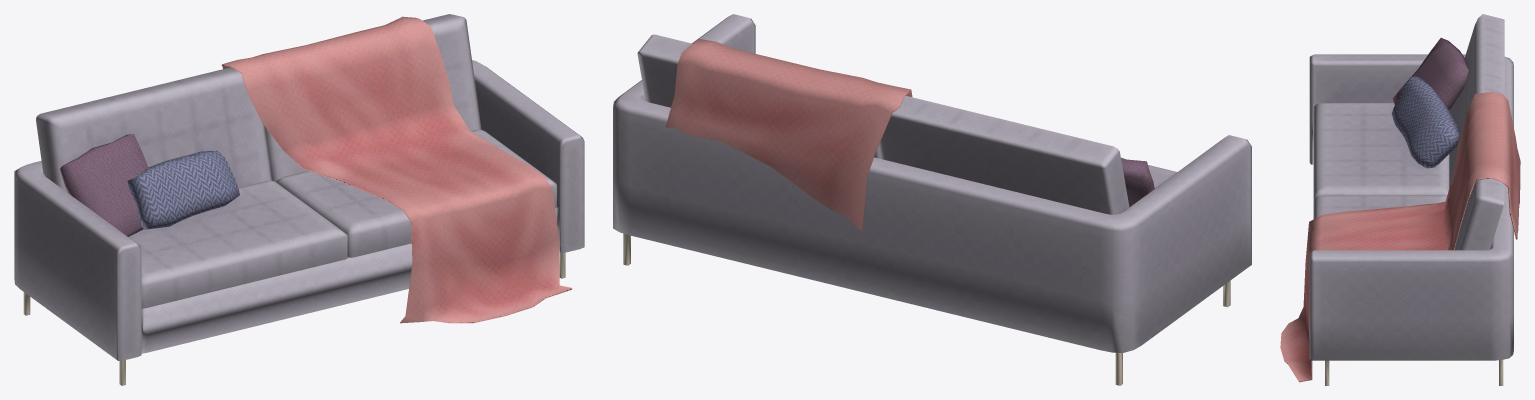
Rendered from couch-transformed.glb.
3 renders of one model, left to right at view 1: azimuth 30°, elevation 25°; view 2: azimuth 150°, elevation 25°; view 3: azimuth 270°, elevation 25°, orthographic. The views are drawn at different scales.
Parts seen in each view (by area): view 1: Cloth_low_CouchMat_0; view 2: Cloth_low_CouchMat_0; view 3: Cloth_low_CouchMat_0.
Boxes of the visible parts, x1=… form: Cloth_low_CouchMat_0: x1=14, y1=14, x2=584, y2=385; Cloth_low_CouchMat_0: x1=613, y1=14, x2=1251, y2=385; Cloth_low_CouchMat_0: x1=1280, y1=14, x2=1520, y2=385.
Size of the model in its own units: 2.2 by 0.9321 by 1.08.
Materials: 1 (1 with a texture image).
